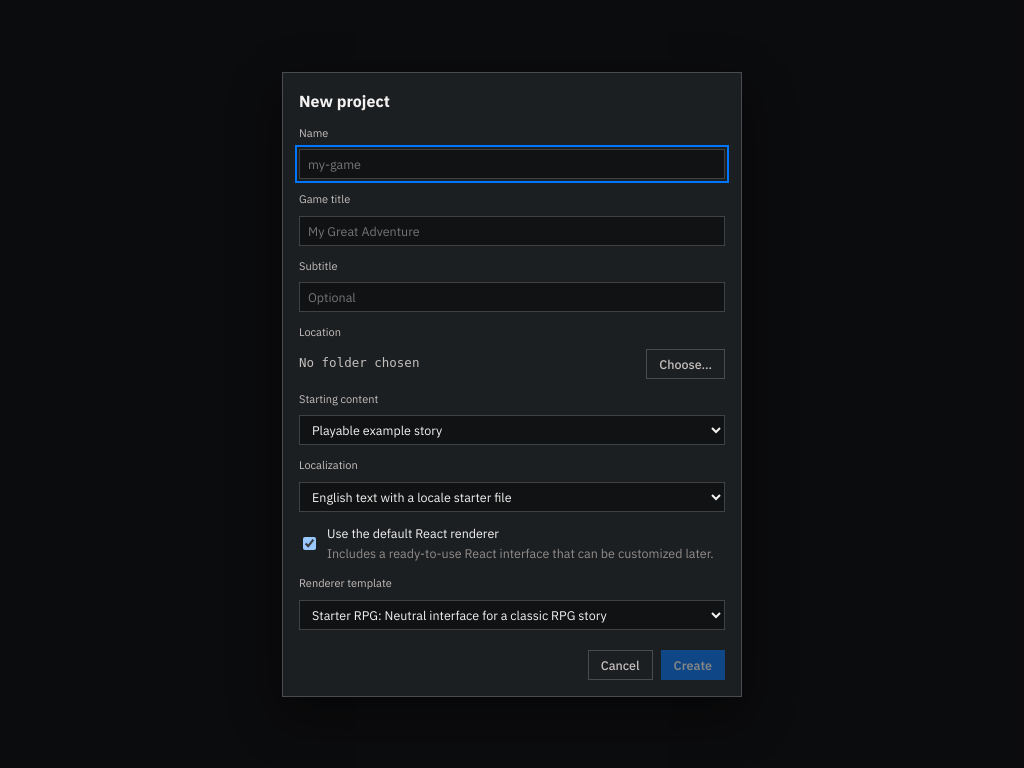
Test: NewProjectModal › does not submit when the project folder is already occupied
Type "game" into the field with placeholder "my-game" at (512, 164), box [299,149,725,179]
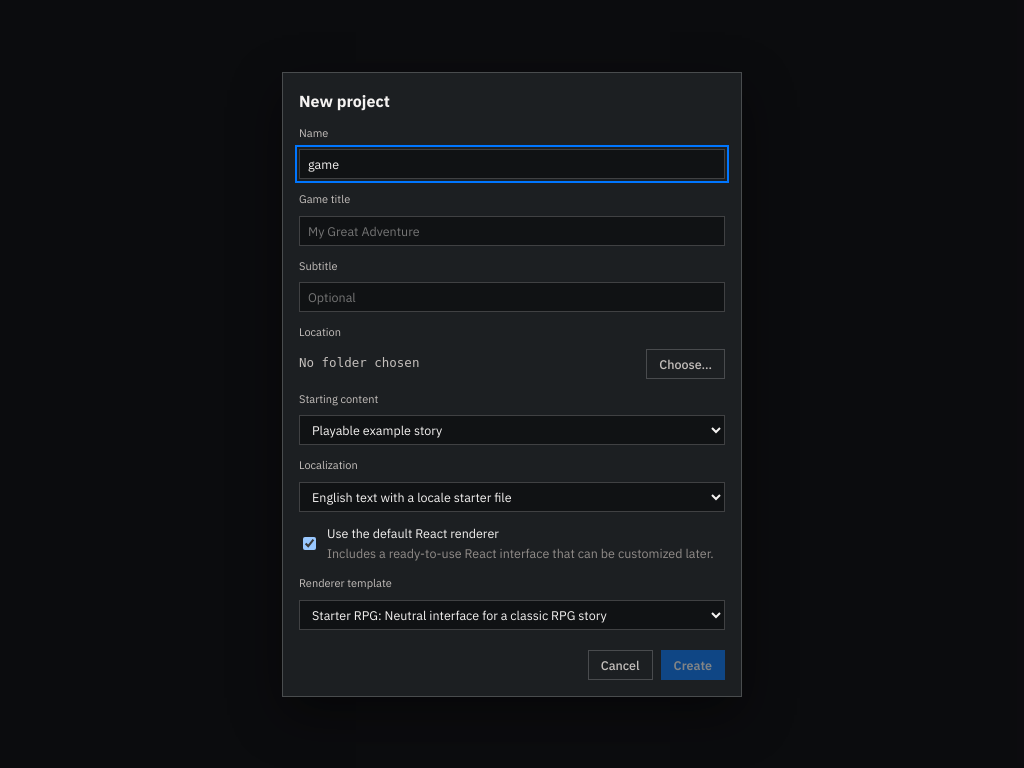
Type "Game" into the field with placeholder "My Great Adventure" at (512, 230), box [299,216,725,246]
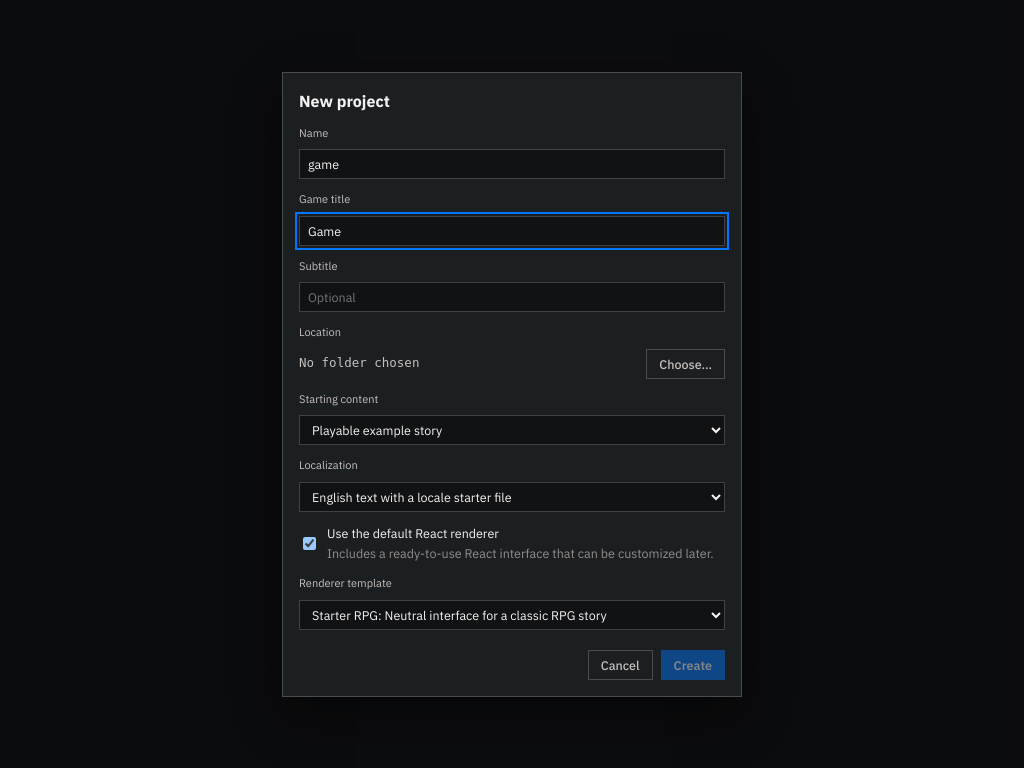
Click the button "Choose…" at (686, 364), box [646,348,725,378]
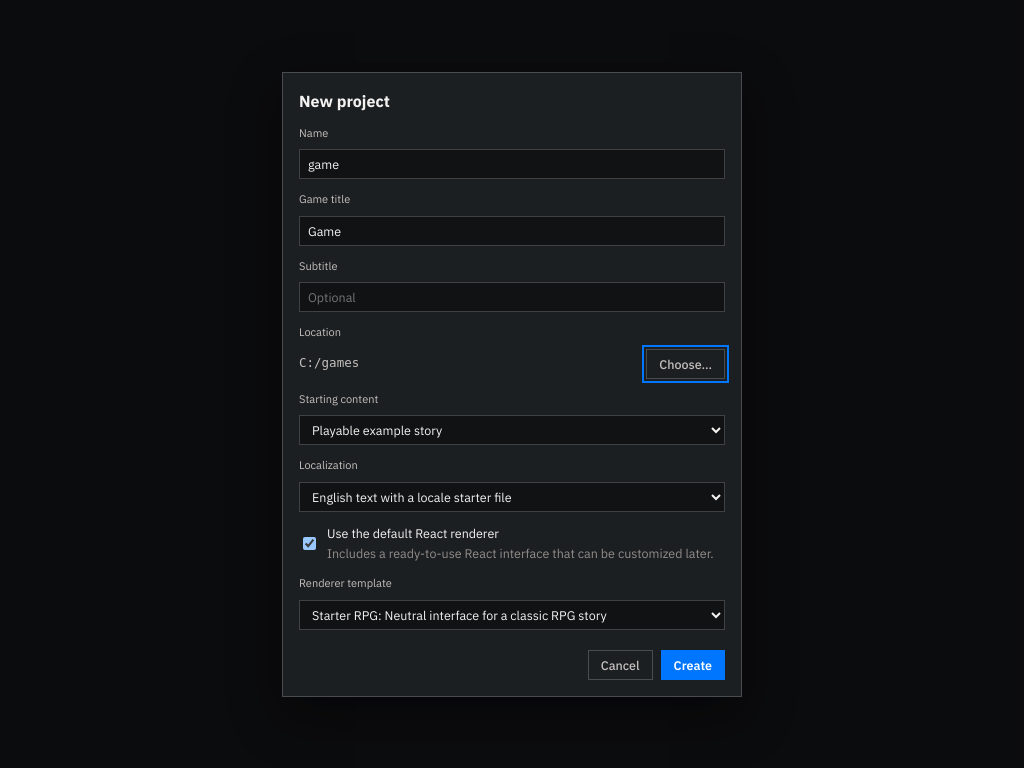
Click the button "Create" at (693, 664), box [661,650,725,680]
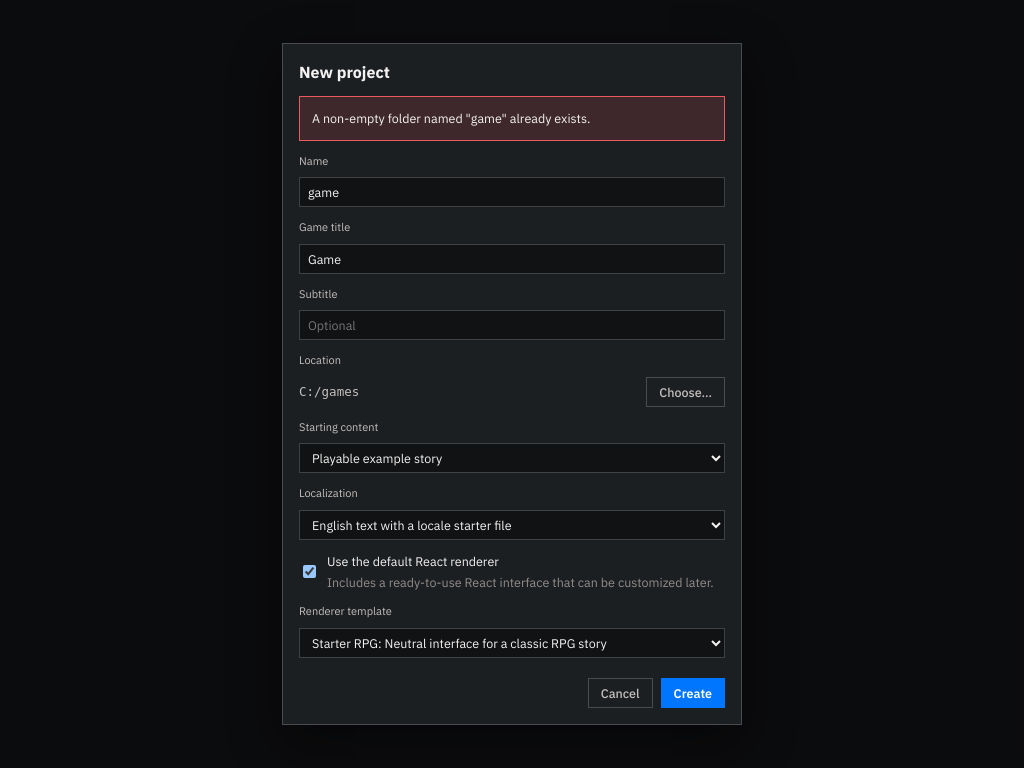
Result: the message "A non-empty folder named \"game\" already exists." is shown at [299,96,725,141]
Result: the message shows "already exists" at [312,110,590,126]
